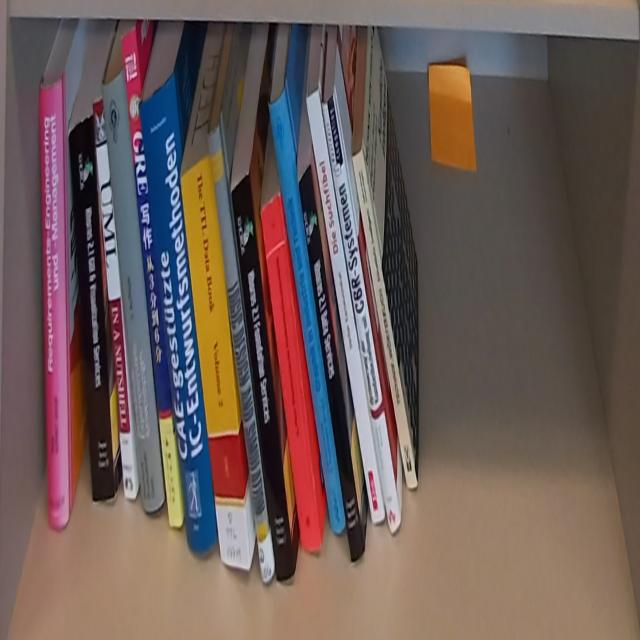Book Spine: (142, 70, 218, 559), (321, 94, 402, 541), (268, 90, 347, 539), (306, 87, 385, 527), (205, 121, 276, 584), (121, 27, 183, 530), (180, 160, 252, 570), (101, 69, 166, 514), (229, 174, 295, 587), (298, 169, 365, 561), (352, 142, 419, 491), (261, 192, 323, 553), (90, 98, 137, 499), (70, 113, 117, 505), (39, 79, 69, 529)
